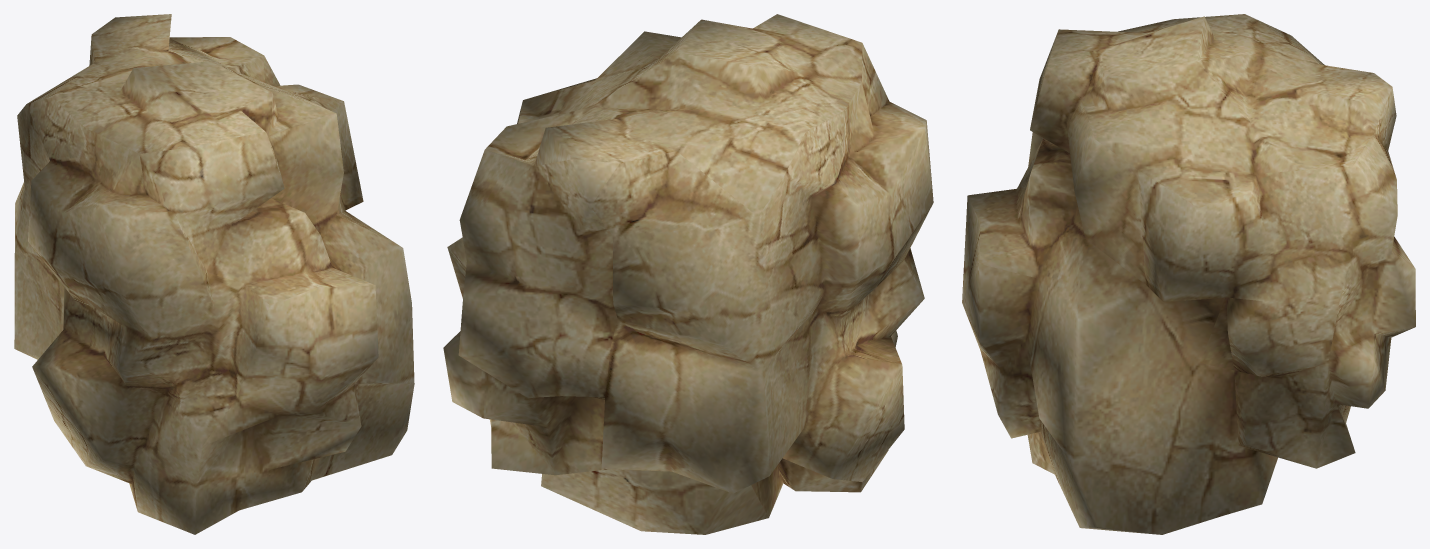
File: S_Rock_Yellow058.FBX
The picture shows the model from 3 angles, left to right: view 1: azimuth 30°, elevation 25°; view 2: azimuth 150°, elevation 25°; view 3: azimuth 270°, elevation 25°; orthographic projection. The views are drawn at different scales.
Parts seen in each view (by area): view 1: S_Rock_Yellow058; view 2: S_Rock_Yellow058; view 3: S_Rock_Yellow058.
Part boxes in pixels (<box>): S_Rock_Yellow058: <box>14,14,414,534</box>; S_Rock_Yellow058: <box>443,14,933,534</box>; S_Rock_Yellow058: <box>962,14,1415,534</box>.
Size of the model in its own units: 524 by 602 by 645.
